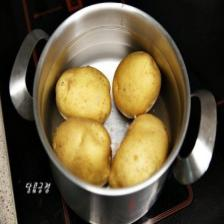Potato: (109, 110, 171, 192), (52, 118, 114, 190), (54, 64, 114, 126), (113, 48, 161, 118)
